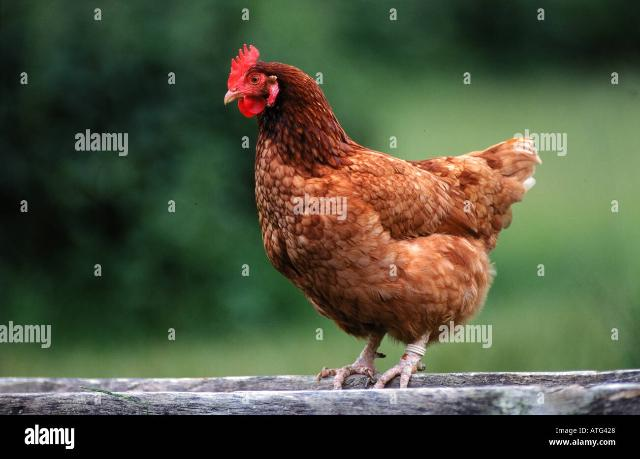Chicken: (223, 43, 543, 393)
